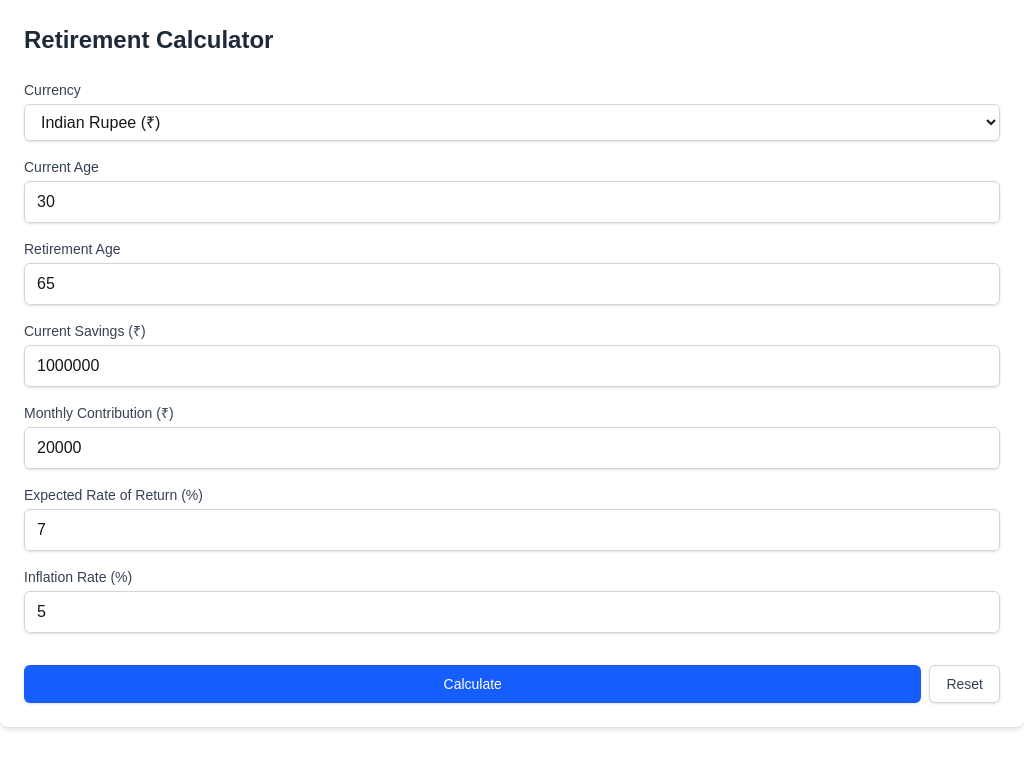
Test case: InputForm › reset button restores default values
// Change values
Replace the text in the number field labelled "Current Age" with "40": (512, 202) top-left (24, 181), bottom-right (1000, 223)
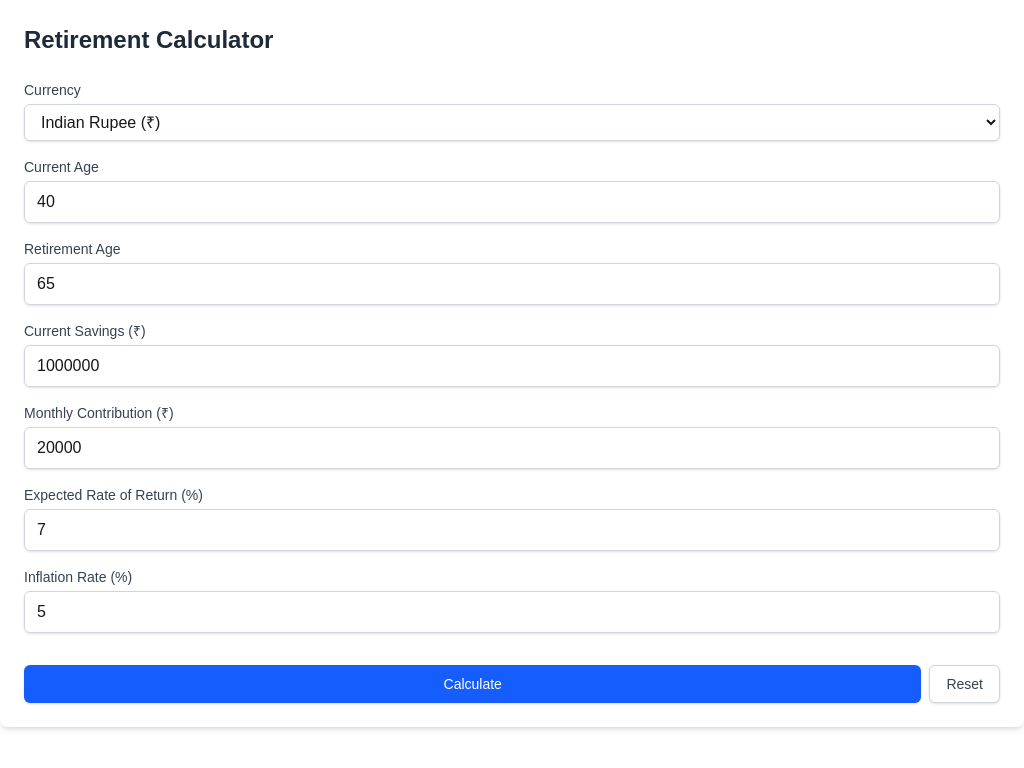
Replace the text in the number field labelled "Retirement Age" with "70": (512, 284) top-left (24, 263), bottom-right (1000, 305)
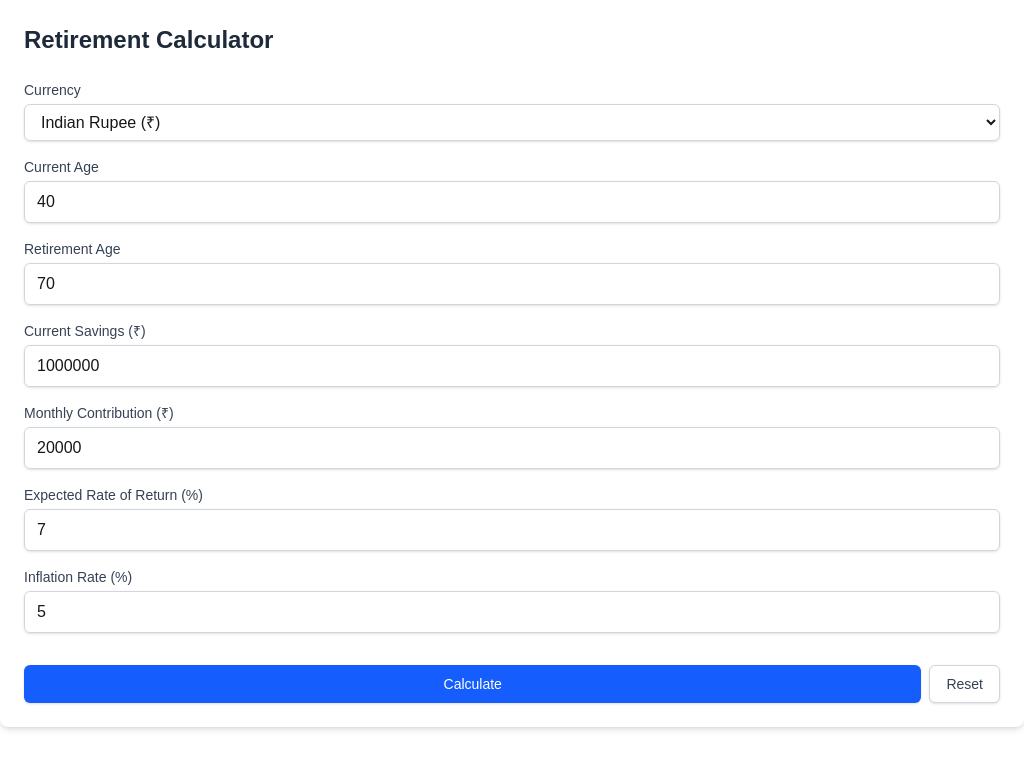
// Click reset
Click the button "Reset": (965, 684) top-left (929, 665), bottom-right (1000, 703)
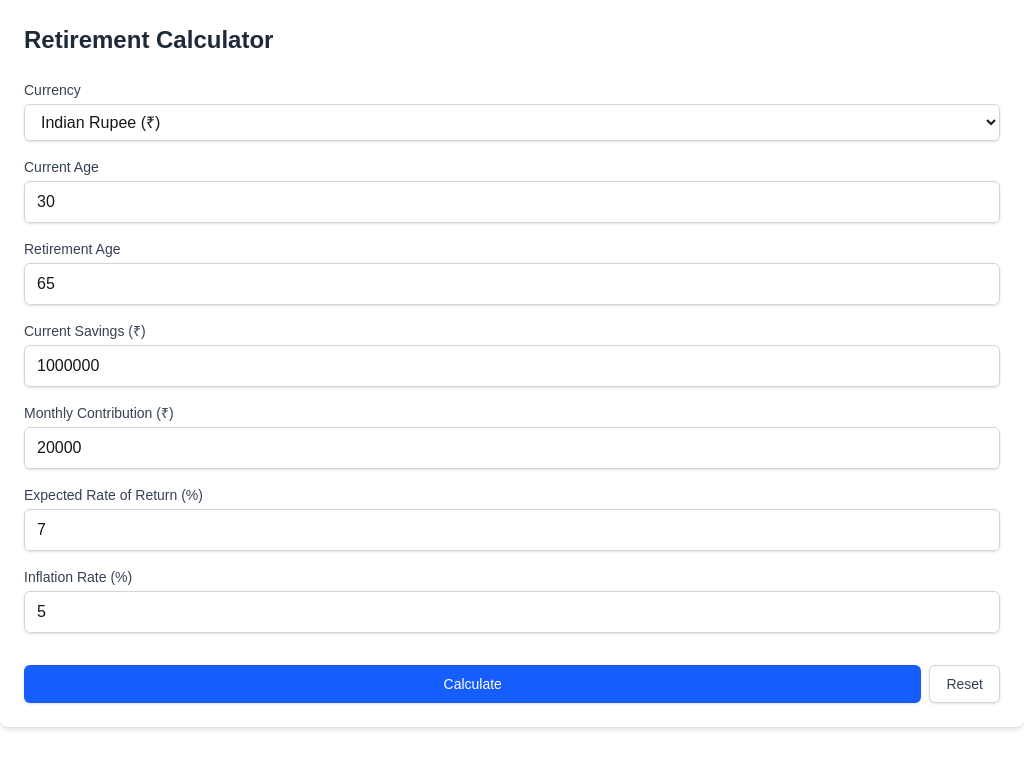
Expected: the number field labelled "Current Age" holds "30", top-left (24, 181), bottom-right (1000, 223)
Expected: the number field labelled "Retirement Age" holds "65", top-left (24, 263), bottom-right (1000, 305)
